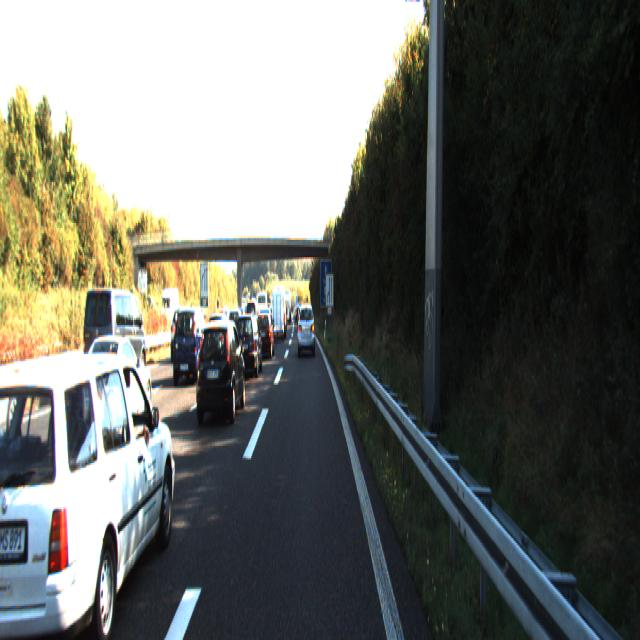Car: (0, 337, 182, 638), (69, 330, 153, 445), (194, 317, 246, 427), (0, 326, 28, 456), (172, 304, 210, 386), (232, 311, 262, 380), (254, 313, 275, 361), (297, 301, 315, 355)
DontCare: (159, 278, 184, 326), (242, 274, 268, 316)
Misc: (271, 288, 285, 342)
Van: (82, 285, 148, 398)
